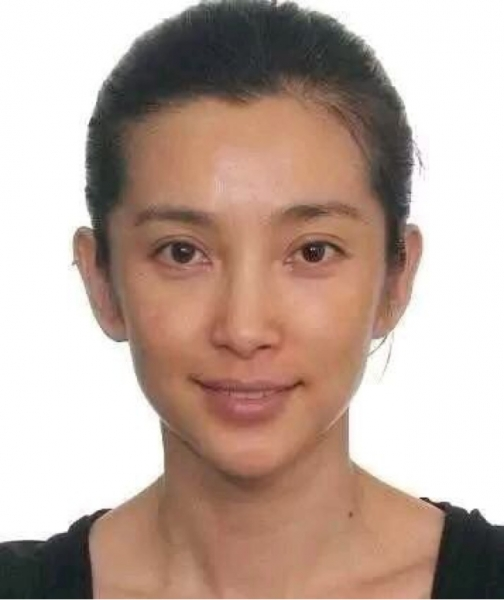unmask: (110, 125, 402, 460)
